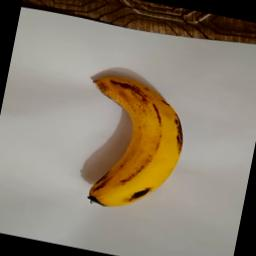Banana Unripe: (68, 70, 196, 224)
